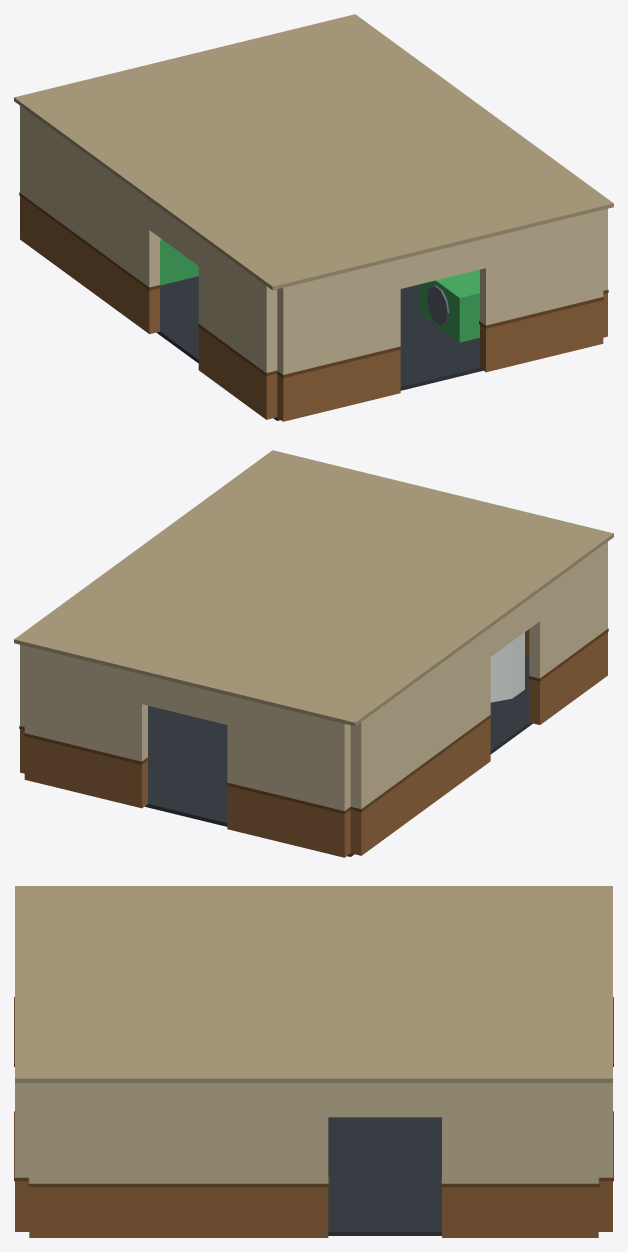
Rendered from room_botany_pump_room.glb.
The picture shows the model from 3 angles, top to bottom: view 1: azimuth 30°, elevation 25°; view 2: azimuth 150°, elevation 25°; view 3: azimuth 270°, elevation 25°; orthographic projection. The views are drawn at different scales.
Visible parts, largest first — view 1: room_botany_pump_room; view 2: room_botany_pump_room; view 3: room_botany_pump_room.
Boxes of the visible parts, <box> form: room_botany_pump_room: <box>14,14,613,421</box>; room_botany_pump_room: <box>14,450,613,857</box>; room_botany_pump_room: <box>14,886,613,1237</box>.
Bounding box in the file's own units: 9.62 × 3.8 × 12.64.
Materials: 1 (1 with a texture image).
